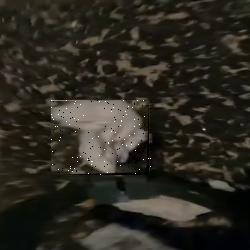restaffald: (52, 100, 152, 175)
